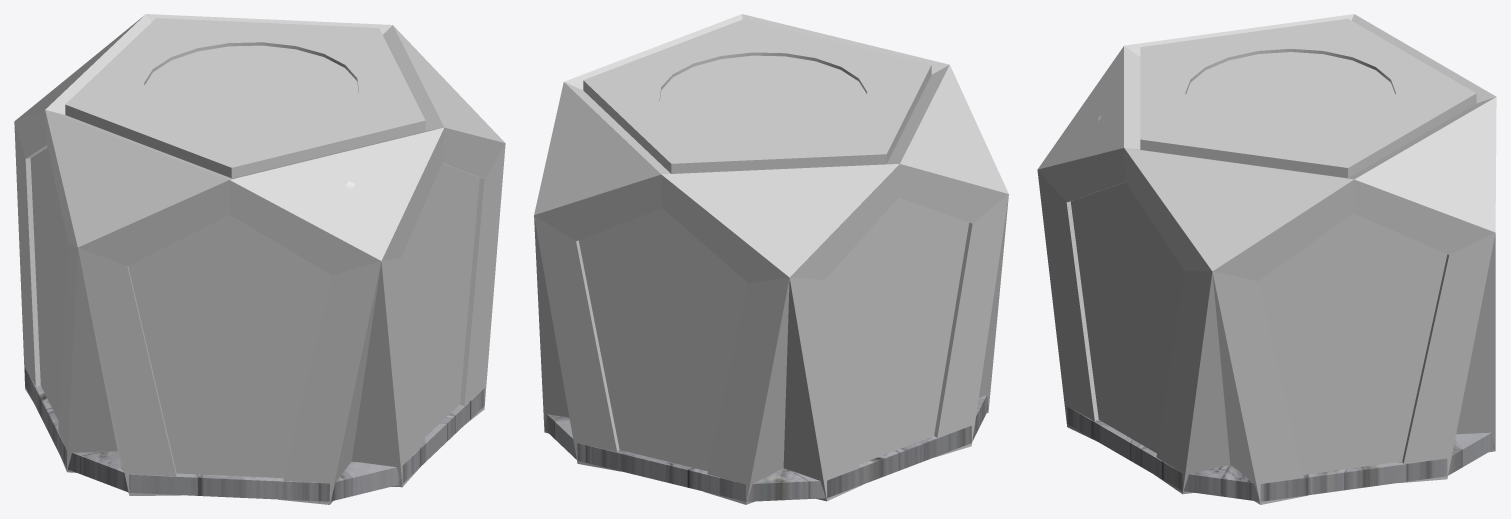
File: pentagon.fbx
3 renders of one model, left to right at view 1: azimuth 30°, elevation 25°; view 2: azimuth 150°, elevation 25°; view 3: azimuth 270°, elevation 25°, orthographic. The views are drawn at different scales.
Parts seen in each view (by area): view 1: Walls, Glass.002, Roof, Roof Window, Glass.003, Flore, Glass.001; view 2: Walls, Glass, Glass.001, Roof, Roof Window, Flore; view 3: Walls, Glass.004, Roof, Glass.003, Roof Window, Flore.
Boxes of the visible parts, left/top/right/bottom form: Walls: left=14, top=14, right=505, bottom=504; Glass.002: left=128, top=214, right=331, bottom=478; Roof: left=65, top=18, right=425, bottom=178; Roof Window: left=144, top=45, right=358, bottom=133; Glass.003: left=401, top=163, right=479, bottom=441; Flore: left=25, top=368, right=484, bottom=501; Glass.001: left=30, top=147, right=68, bottom=420; Walls: left=534, top=14, right=1008, bottom=504; Glass: left=578, top=208, right=748, bottom=471; Glass.001: left=824, top=198, right=968, bottom=464; Roof: left=583, top=19, right=931, bottom=173; Roof Window: left=660, top=55, right=866, bottom=140; Flore: left=545, top=395, right=988, bottom=501; Walls: left=1037, top=14, right=1496, bottom=504; Glass.004: left=1258, top=213, right=1447, bottom=474; Roof: left=1140, top=18, right=1476, bottom=178; Glass.003: left=1070, top=182, right=1184, bottom=453; Roof Window: left=1186, top=52, right=1395, bottom=137; Flore: left=1067, top=406, right=1494, bottom=501.
Bounding box in the file's own units: 7.69 × 5.63 × 7.33.
Materials: 2 (1 with a texture image).
